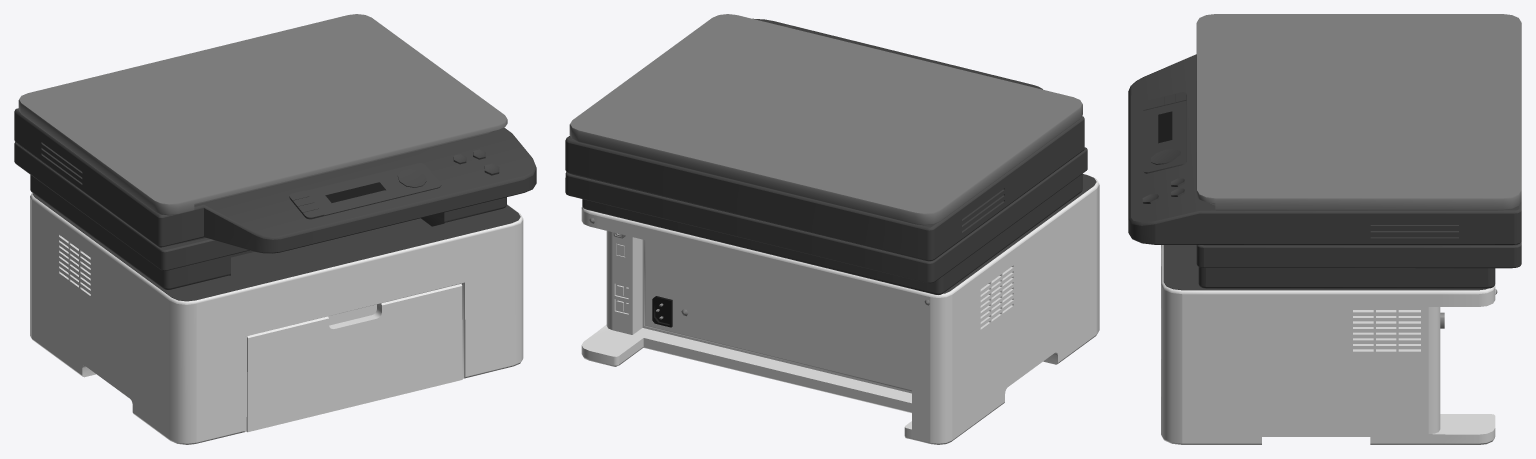
File: impresora.glb
3 views of the same model, side by side, from view 1: azimuth 30°, elevation 25°; view 2: azimuth 150°, elevation 25°; view 3: azimuth 270°, elevation 25° (orthographic). The views are drawn at different scales.
Visible parts, largest first — view 1: lower_part_shutter_plastic.1_0; view 2: lower_part_shutter_plastic.1_0; view 3: lower_part_shutter_plastic.1_0.
Boxes of the visible parts, x1=… form: lower_part_shutter_plastic.1_0: x1=14, y1=14, x2=536, y2=444; lower_part_shutter_plastic.1_0: x1=565, y1=14, x2=1099, y2=444; lower_part_shutter_plastic.1_0: x1=1128, y1=14, x2=1521, y2=444.
Bounding box in the file's own units: 0.4 × 0.25 × 0.36.
1 material, 1 textured.
